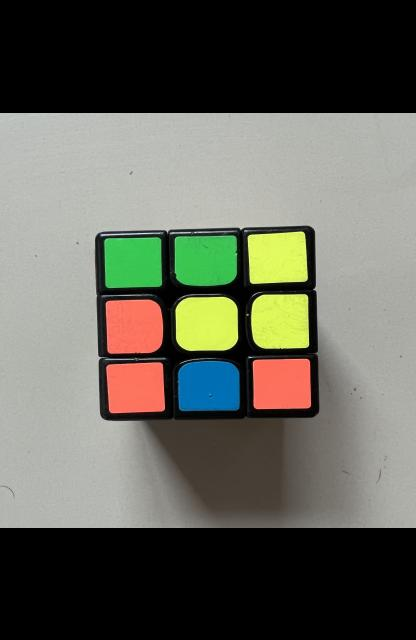Blue: (178, 360, 240, 410)
Green: (174, 234, 237, 285), (104, 237, 162, 288)
Orange: (106, 298, 163, 352), (107, 361, 166, 412), (253, 358, 312, 409)
Yellow: (176, 295, 238, 350), (250, 293, 309, 348), (248, 230, 308, 283)
